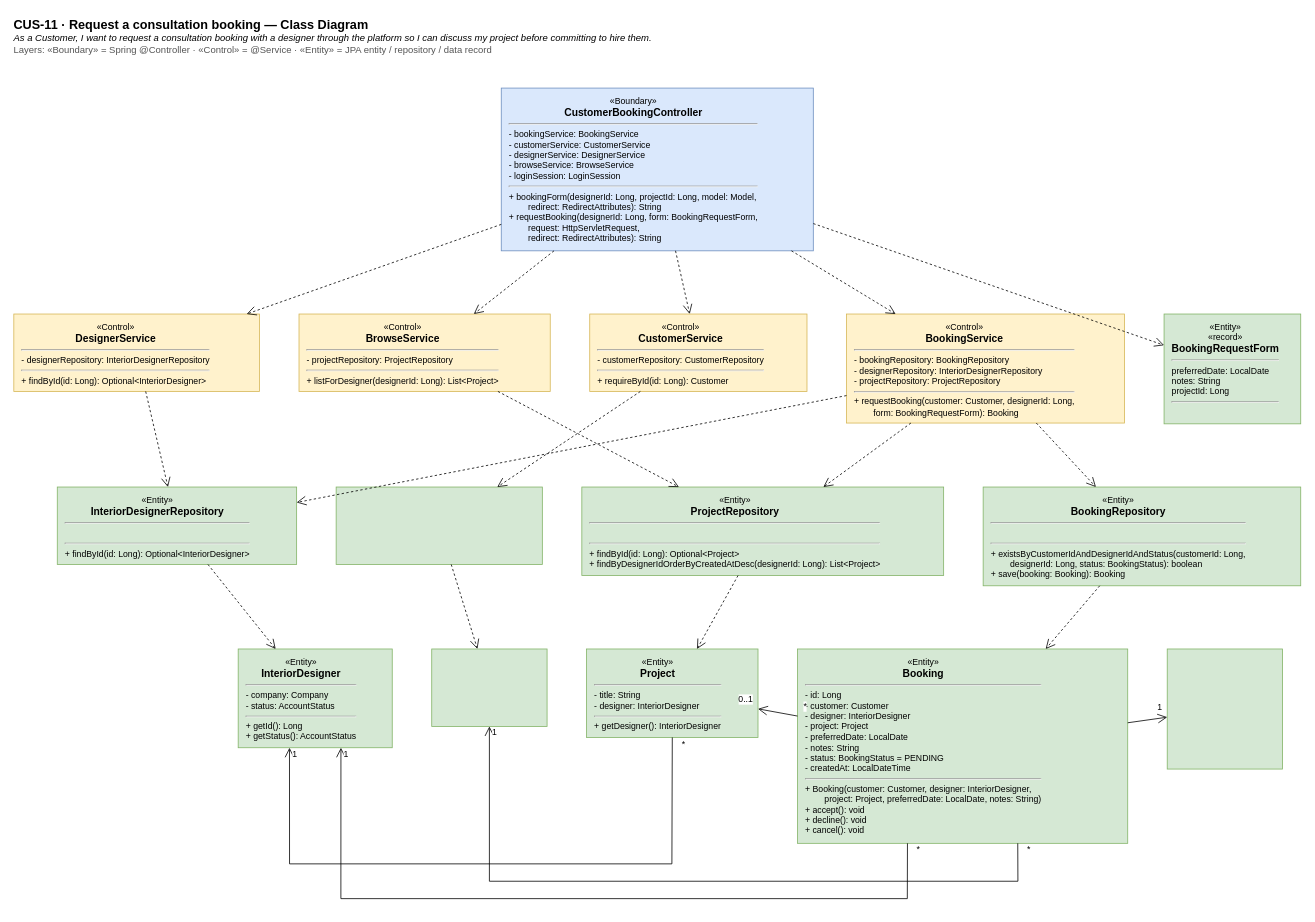
This 1315x922 diagram has some shape labels left out. The box of each missing label's shape, as (x1, y1, x2, y2) in pixels:
«Entity» Customer - fullName: String + getId(): Long: (431, 648, 547, 726)
«Entity» CustomerRepository + findById(id: Long): Optional<Customer>: (335, 486, 542, 564)
«Entity» «enumeration» BookingStatus PENDING ACCEPTED DECLINED CANCELLED: (1166, 648, 1283, 769)
